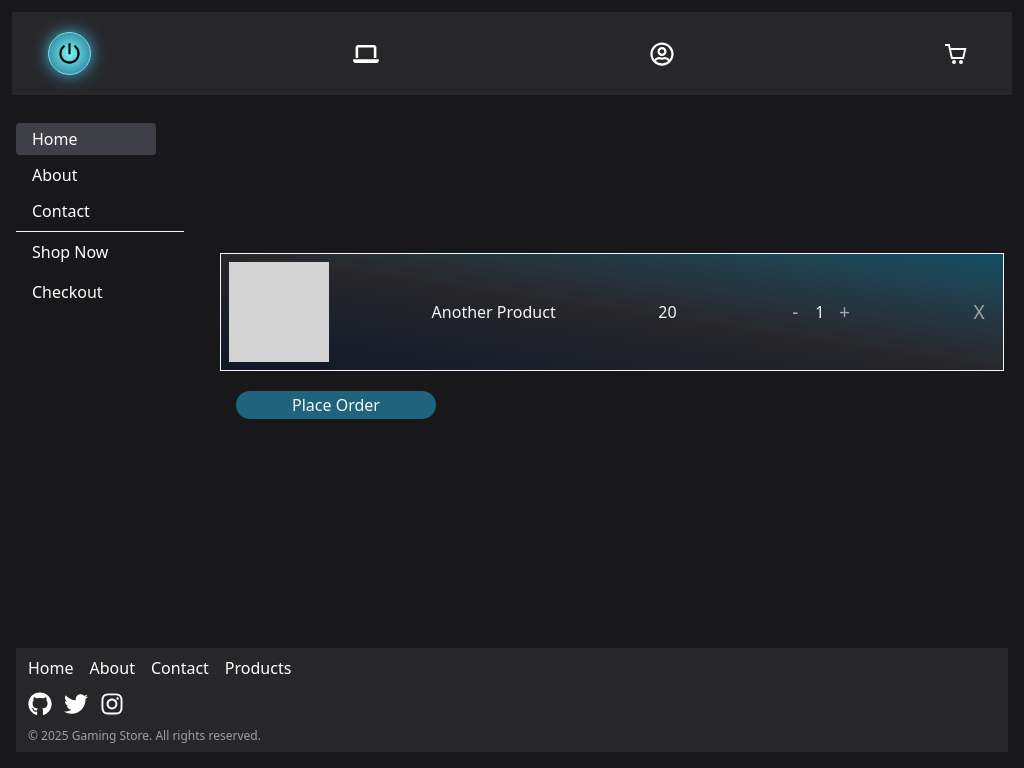
Test case: Checkout Integration › removes product from cart after placing order
The width and height of the screenshot is (1024, 768).
Expected: the heading "Another Product" is shown, x1=432 y1=300 x2=556 y2=324
Click the Place Order button
Click the button "Place Order".
click(336, 405)  # box x1=236 y1=391 x2=436 y2=419
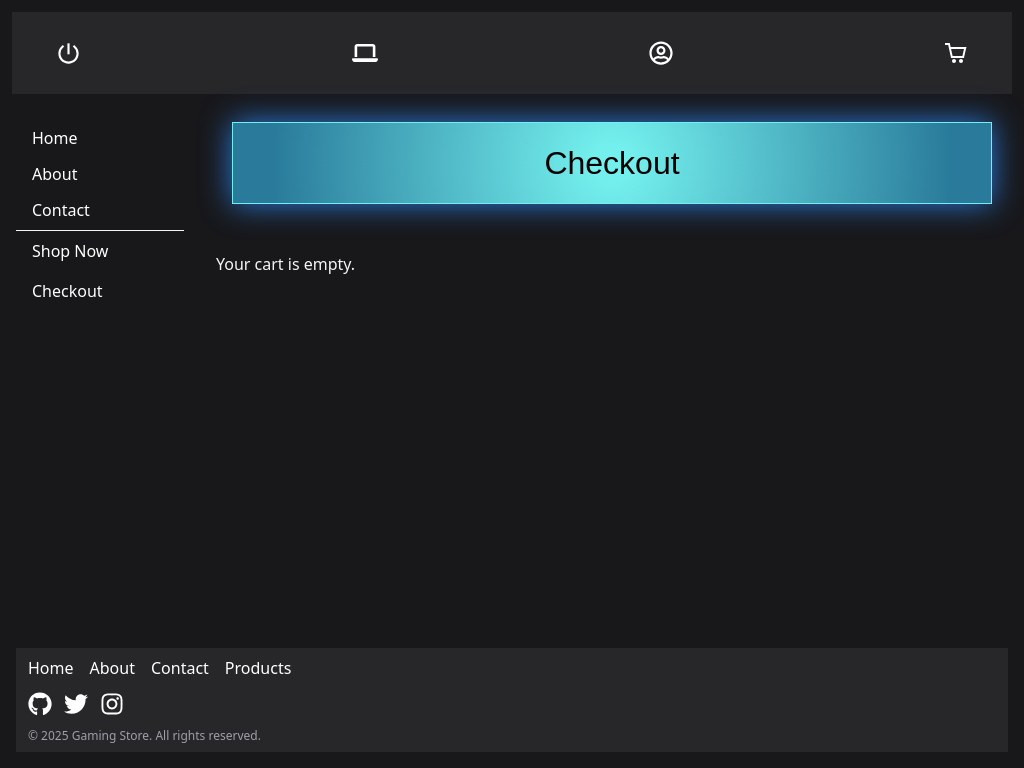
Result: the text "Your cart is empty." is shown at x1=216 y1=253 x2=355 y2=275
